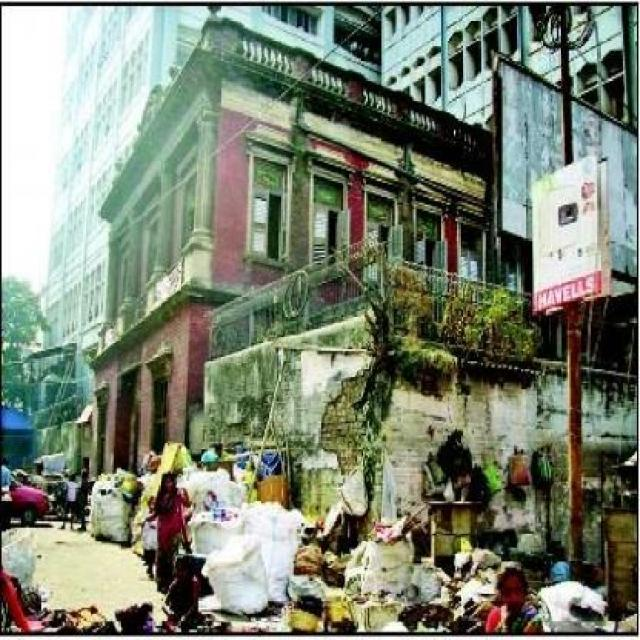garbage: (203, 459, 390, 630), (403, 455, 546, 638), (93, 474, 149, 540)
